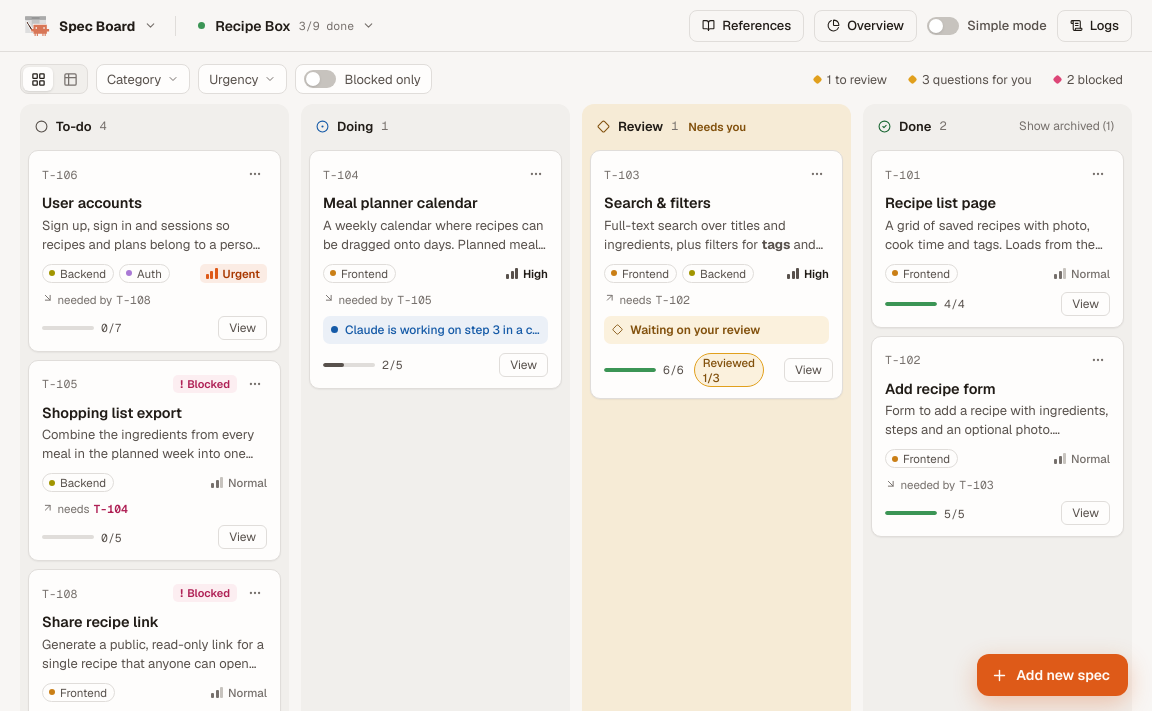
App › two quick moves of one spec: the card stays in the second target until its refresh
Step 1. Press the mouse on the button "T-104 " → {"x": 436, "y": 269}, box [309,150,562,388]
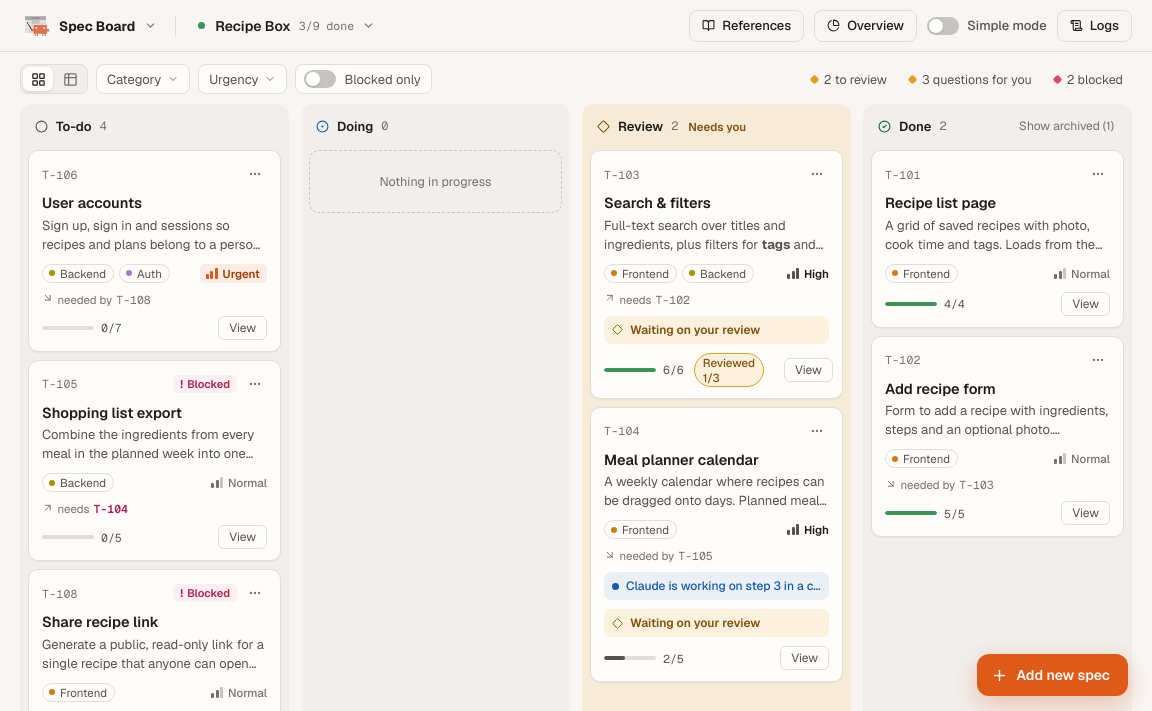
Expected: the text "Review" is shown, [618,118,663,134]
Step 2. Press the mouse on the button "T-104 " → {"x": 716, "y": 544}, box [590,406,843,682]
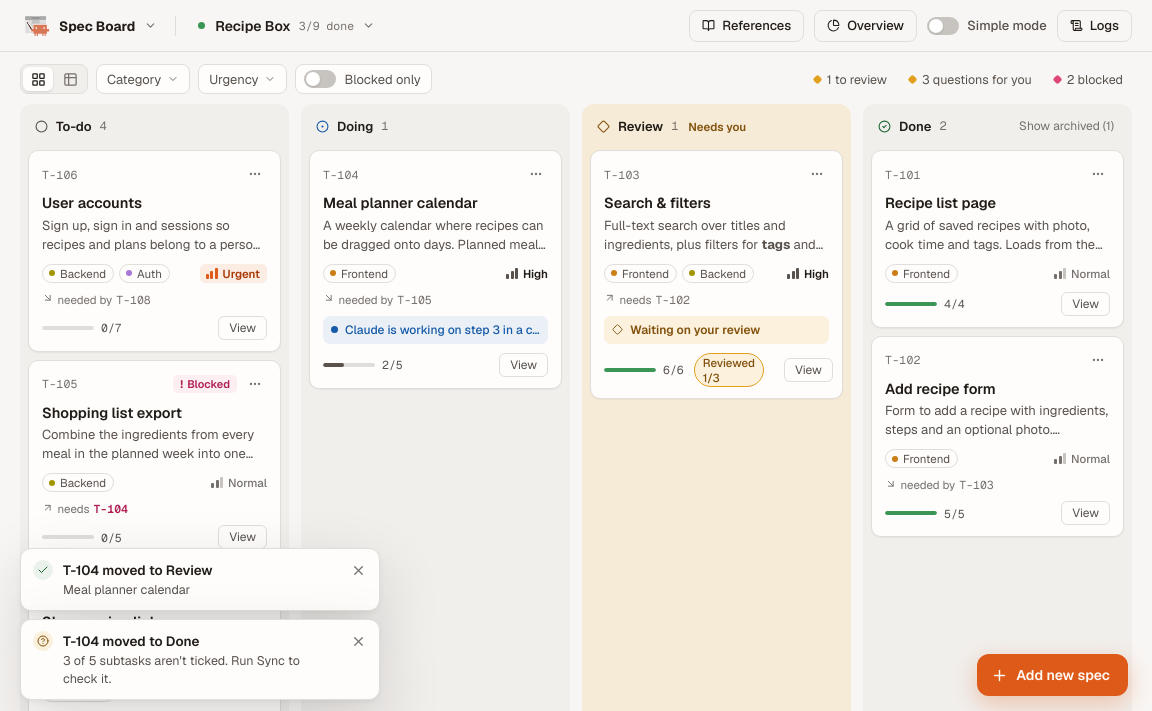
Expected: the text "Done" is shown, [899,118,931,134]
Result: the text "T-104 moved to Review" is shown at [63,561,213,579]
Result: the text "T-104 moved to Done" is shown at [63,632,199,650]
